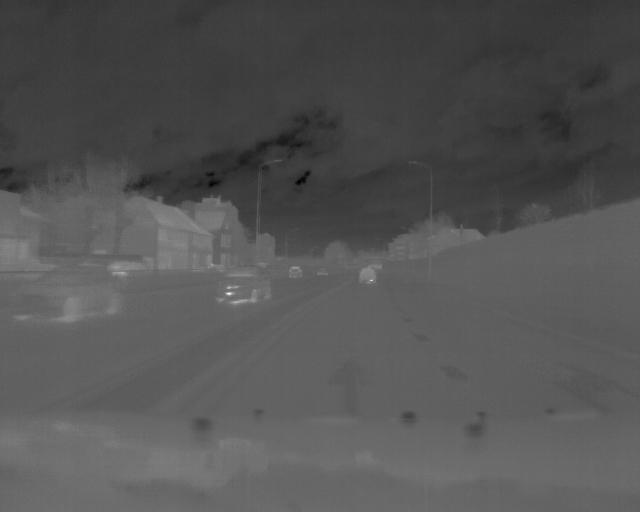car: (10, 269, 133, 322), (215, 265, 272, 305), (357, 266, 378, 283), (285, 263, 305, 280)
